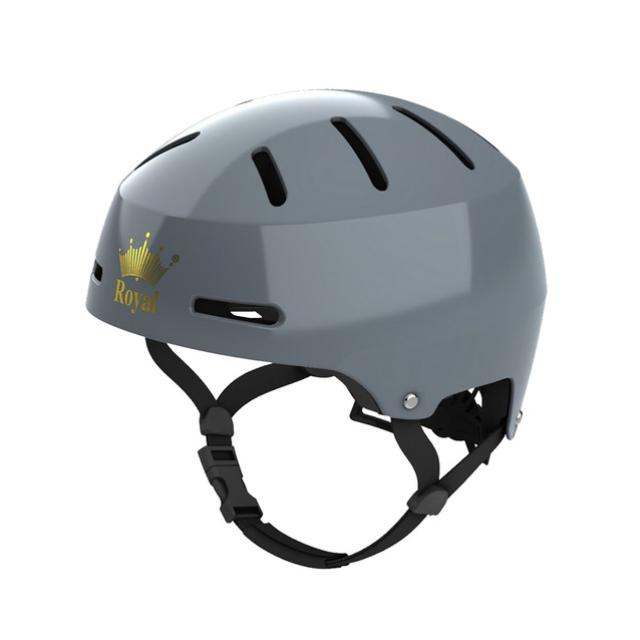Helmet: (82, 84, 552, 570)
